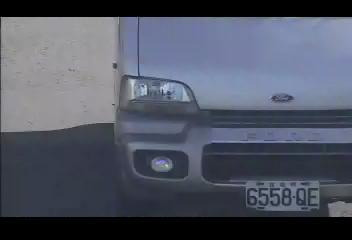plate: (244, 179, 322, 213)
